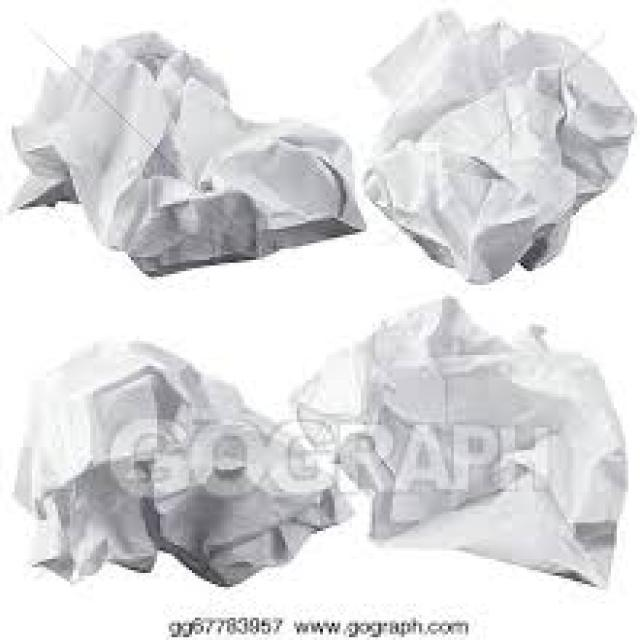Paper: (295, 301, 625, 587), (7, 26, 363, 282), (16, 343, 358, 582), (362, 12, 636, 279)
